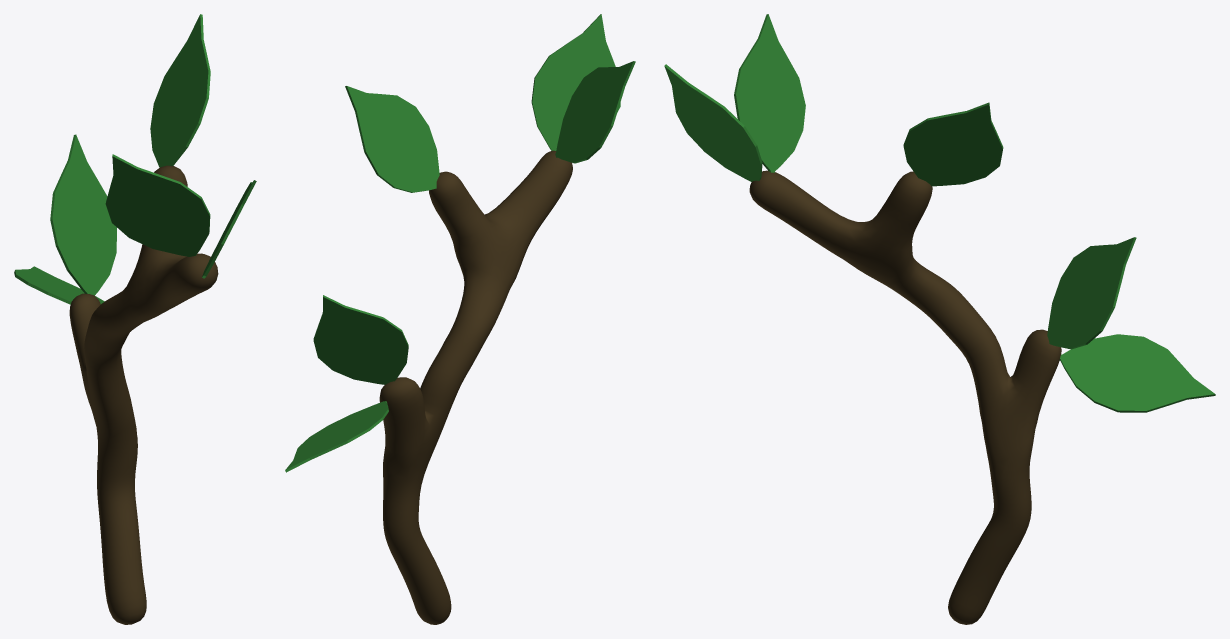
Rendered from Pousse.fbx.
The picture shows the model from 3 angles, left to right: view 1: azimuth 30°, elevation 25°; view 2: azimuth 150°, elevation 25°; view 3: azimuth 270°, elevation 25°; orthographic projection. The views are drawn at different scales.
Visible parts, largest first — view 1: Circle; view 2: Circle; view 3: Circle.
Part boxes in pixels (box(x1,y1,x2,y2)): Circle: box(14, 14, 256, 624); Circle: box(285, 14, 635, 624); Circle: box(664, 14, 1215, 624).
Size of the model in its own units: 173 by 466 by 415.
